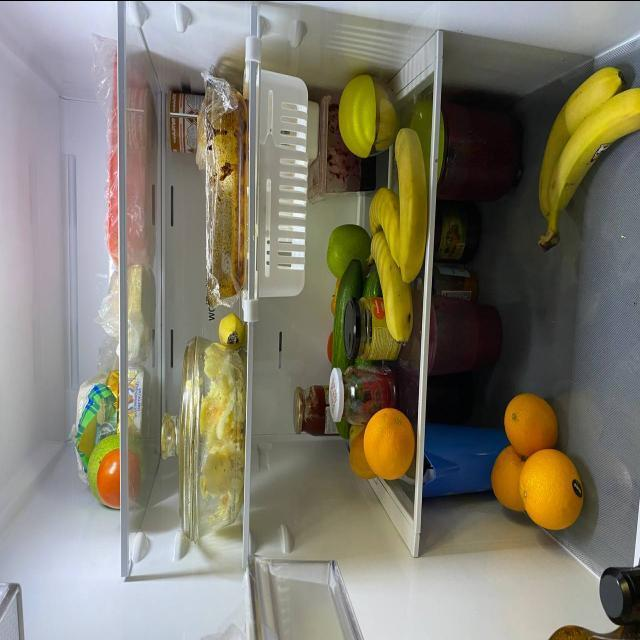Apple: (86, 429, 120, 504), (321, 226, 366, 276), (345, 420, 374, 480), (327, 274, 343, 316)
Banana: (539, 52, 640, 245), (367, 182, 421, 344), (395, 112, 429, 282), (214, 308, 241, 354)
Cucumber: (327, 256, 360, 452), (360, 264, 382, 300), (352, 348, 376, 378)
Orange: (519, 446, 590, 536), (502, 389, 559, 456), (364, 405, 409, 487), (488, 447, 528, 513)
Tomato: (100, 444, 141, 509), (327, 327, 339, 362)
